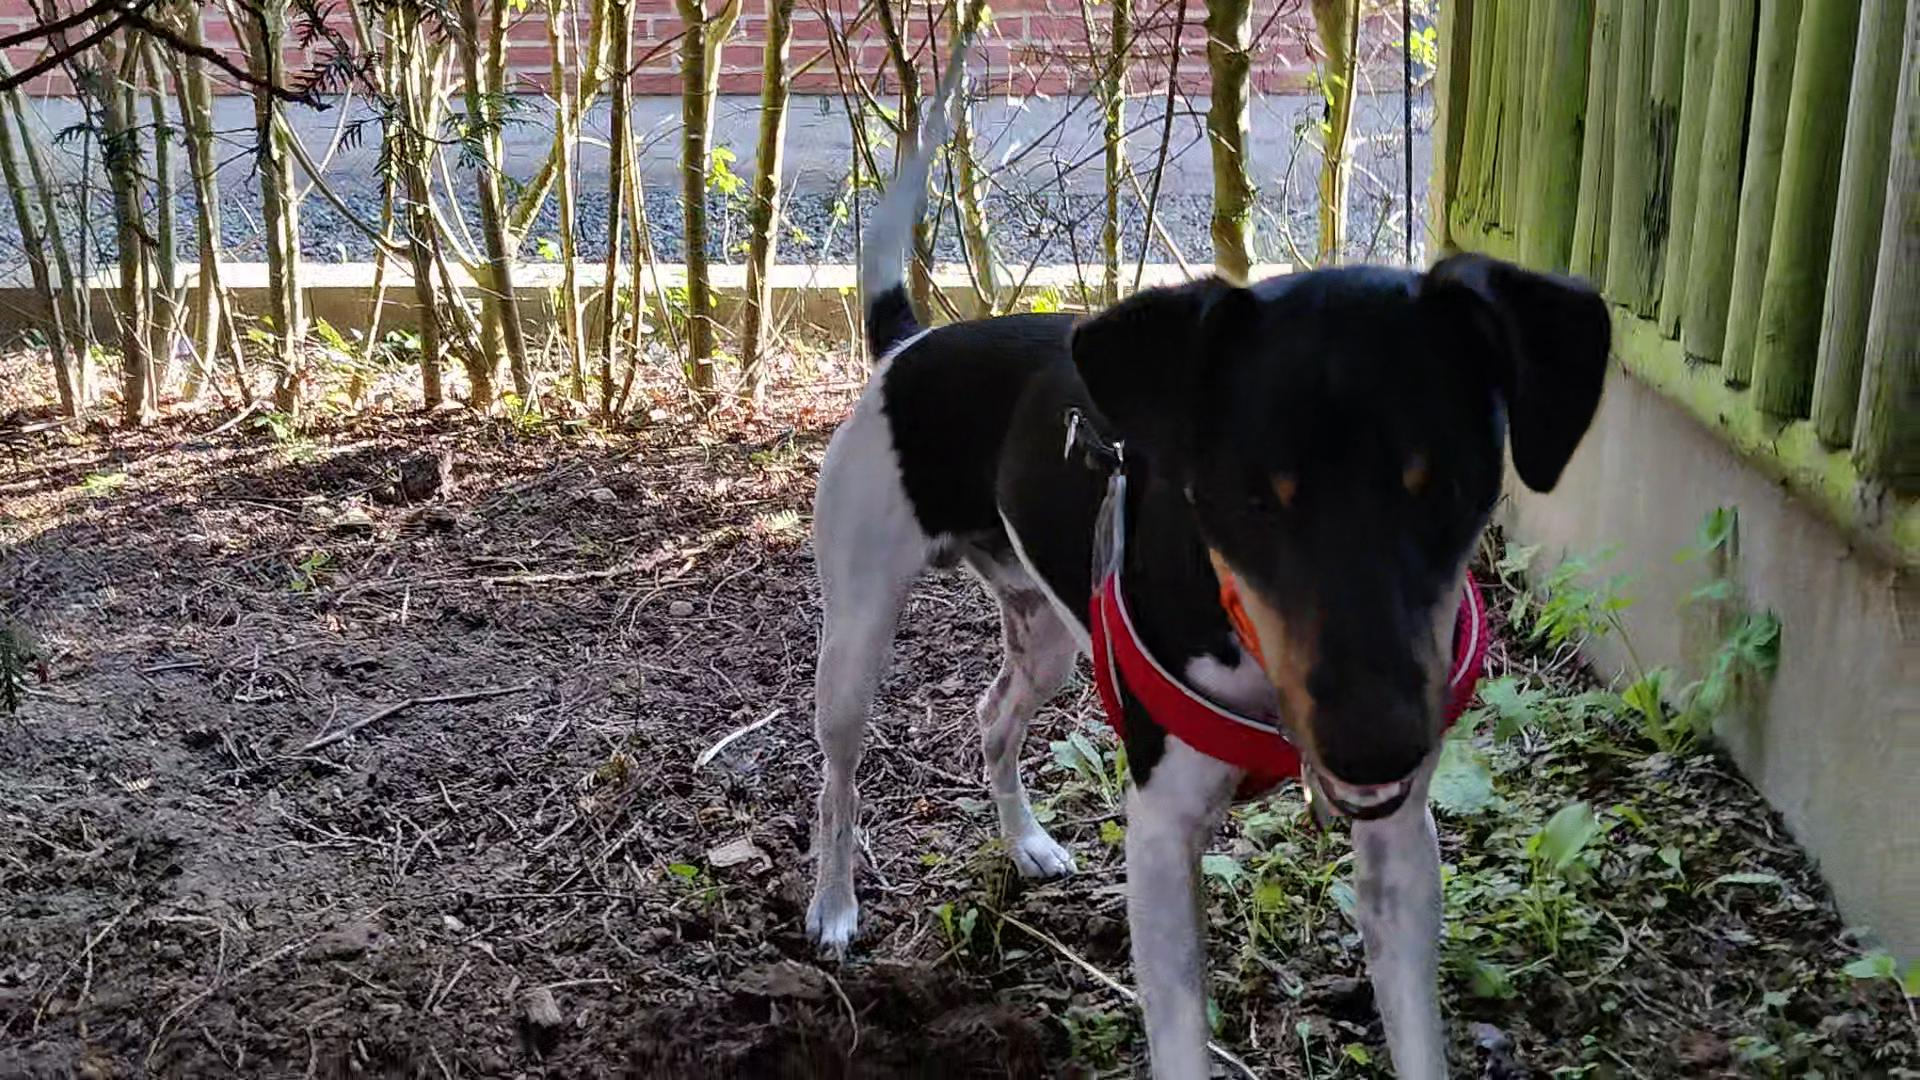Dog: (765, 57, 1648, 1079)
